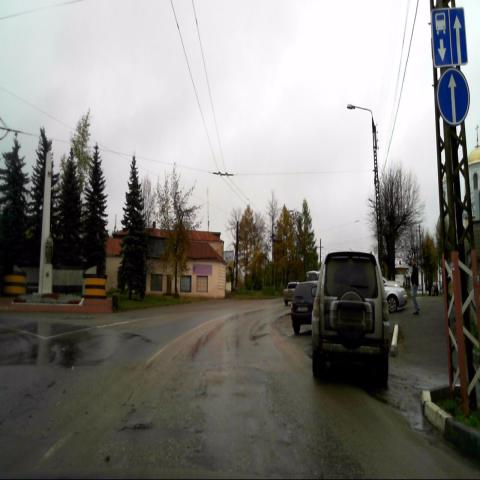5_11: (430, 6, 468, 67)
